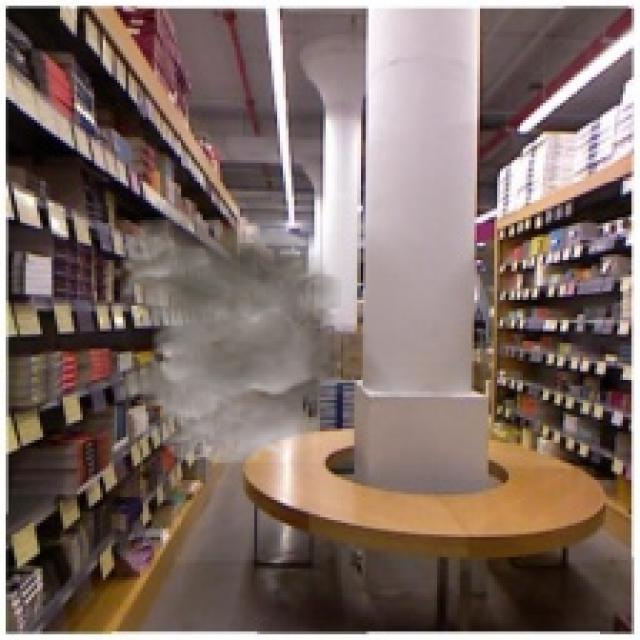smoke: (109, 214, 377, 466)
